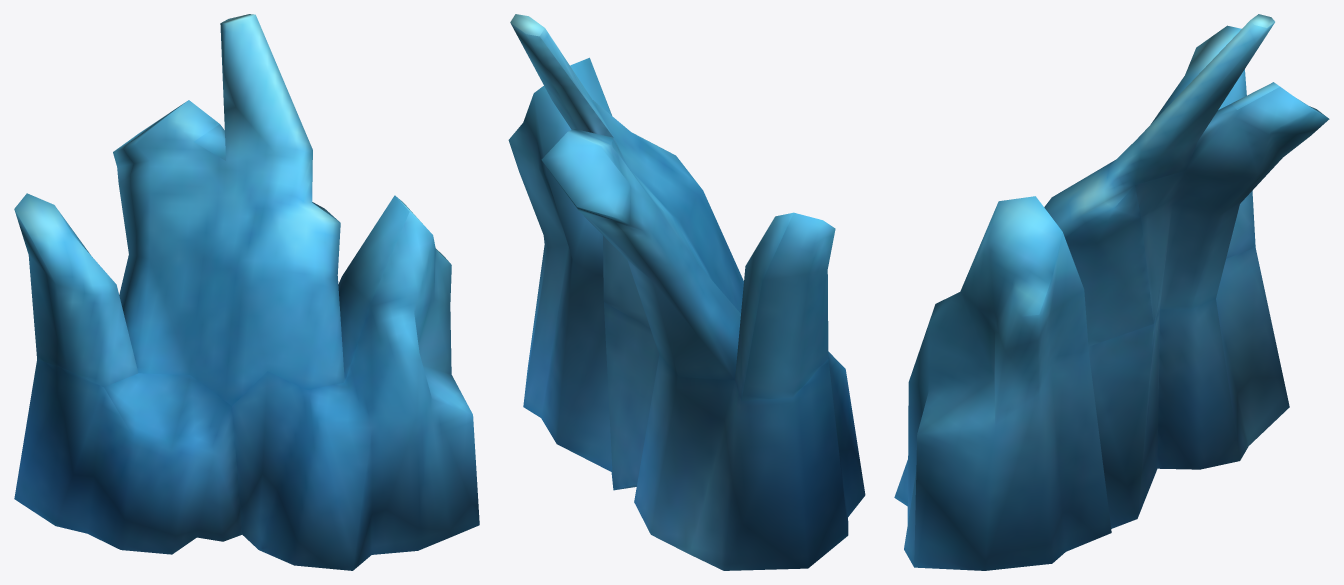
Rendered from Stage_ZhuCheng_BingLing04.FBX.
3 views of the same model, side by side, from view 1: azimuth 30°, elevation 25°; view 2: azimuth 150°, elevation 25°; view 3: azimuth 270°, elevation 25° (orthographic). The views are drawn at different scales.
Parts seen in each view (by area): view 1: Stage_ZhuCheng_BingLing04; view 2: Stage_ZhuCheng_BingLing04; view 3: Stage_ZhuCheng_BingLing04.
Part boxes in pixels (left/top/right/bottom): Stage_ZhuCheng_BingLing04: left=14, top=14, right=479, bottom=570; Stage_ZhuCheng_BingLing04: left=508, top=14, right=865, bottom=570; Stage_ZhuCheng_BingLing04: left=894, top=14, right=1329, bottom=570.
Size of the model in its own units: 130 by 154 by 117.
